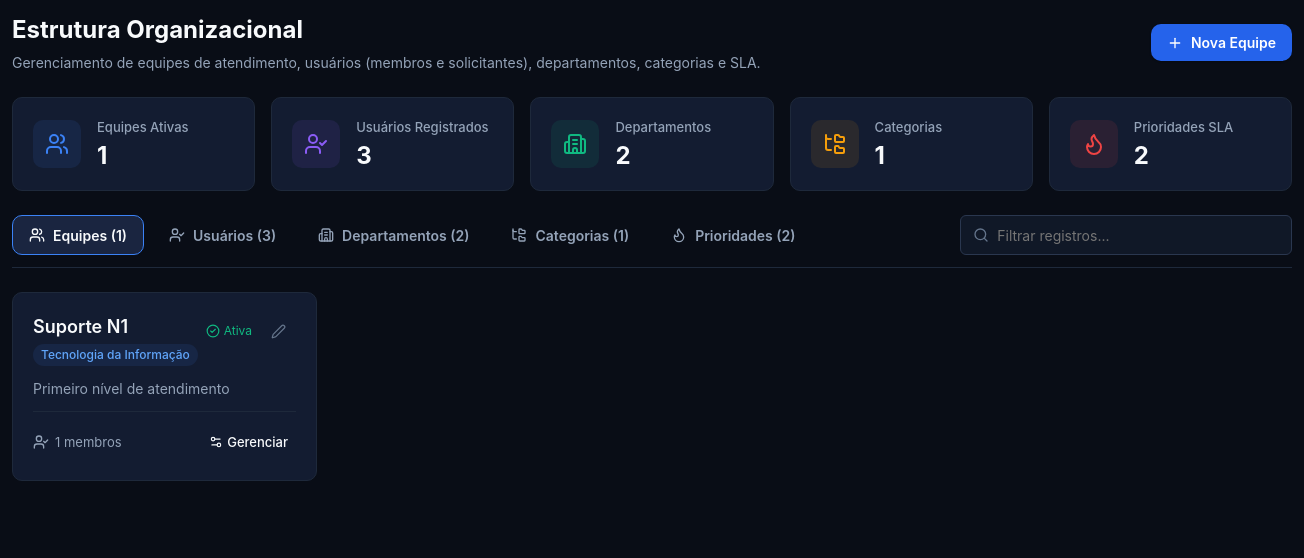
TeamsPage Component › switches to users tab and displays registered users list including company requesters
Click the button "Usuários (3)". click: coordinates (223, 235)
box: left=152, top=215, right=293, bottom=255
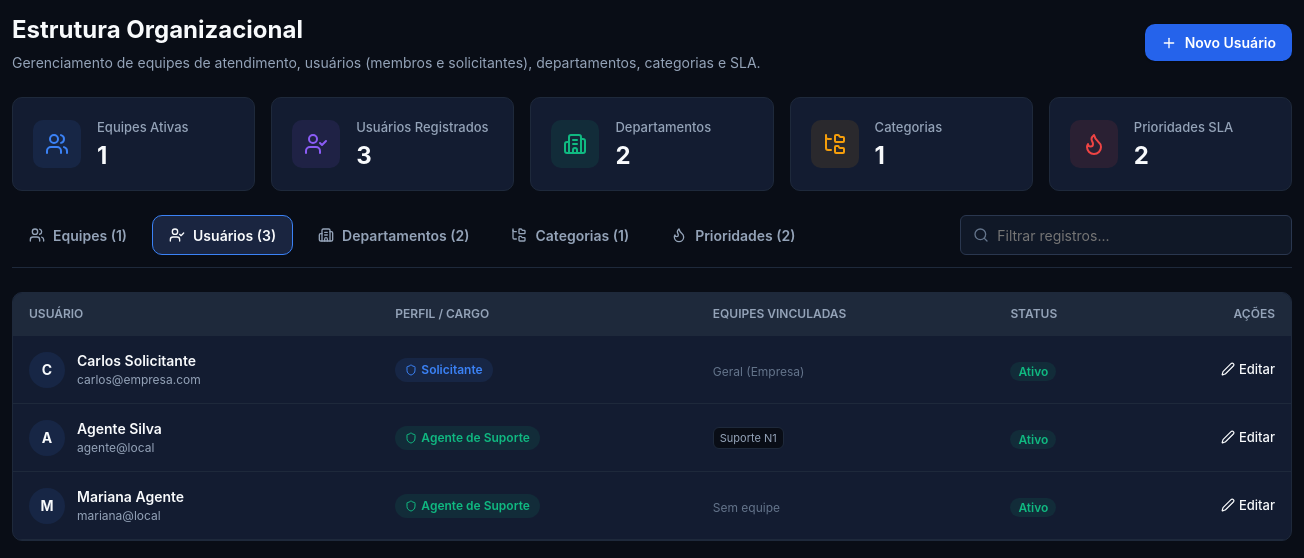
Expected: the text "Carlos Solicitante" is shown, left=77, top=350, right=201, bottom=371
Expected: the text "carlos@empresa.com" is shown, left=77, top=371, right=201, bottom=389
Expected: the text "Agente Silva" is shown, left=77, top=418, right=162, bottom=439
